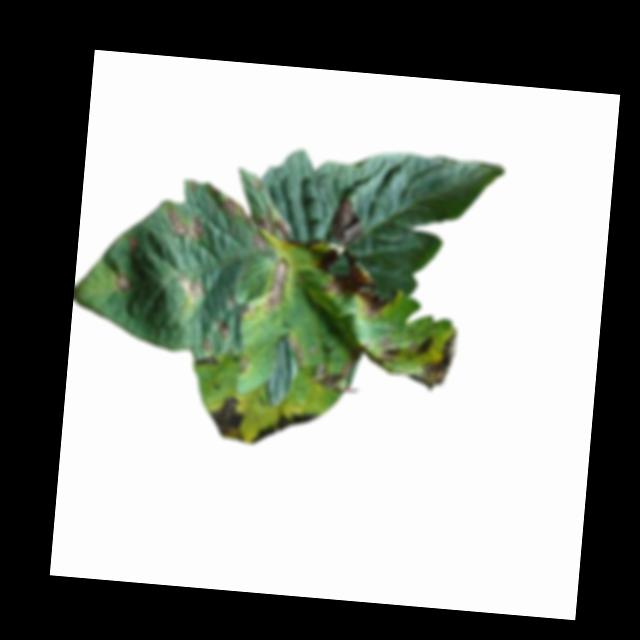Early_blight: (291, 239, 393, 320), (290, 340, 362, 396), (408, 327, 459, 392), (250, 405, 319, 449), (205, 392, 250, 443), (328, 195, 366, 246), (263, 255, 292, 311), (164, 204, 206, 241), (252, 213, 288, 253), (370, 332, 401, 370), (406, 328, 434, 360), (176, 274, 205, 299), (194, 353, 220, 369), (113, 273, 131, 293), (126, 234, 141, 252), (225, 196, 239, 215), (218, 319, 230, 336), (201, 338, 213, 351)
